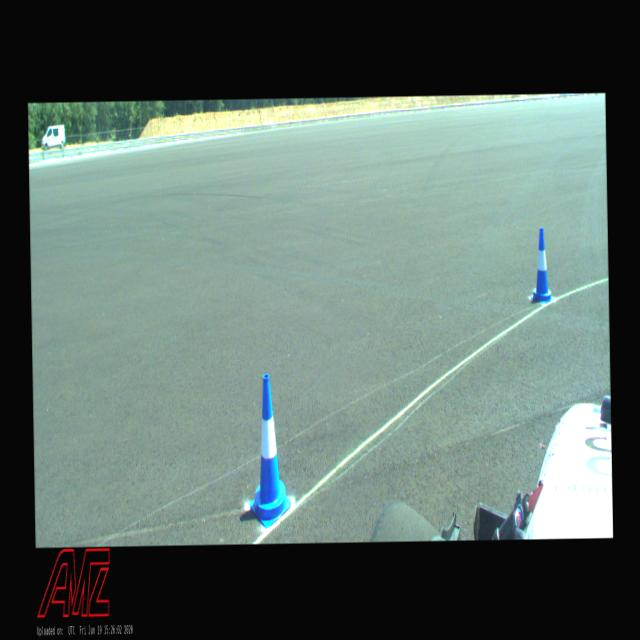blue_cone: (248, 374, 290, 527), (529, 227, 552, 302)
